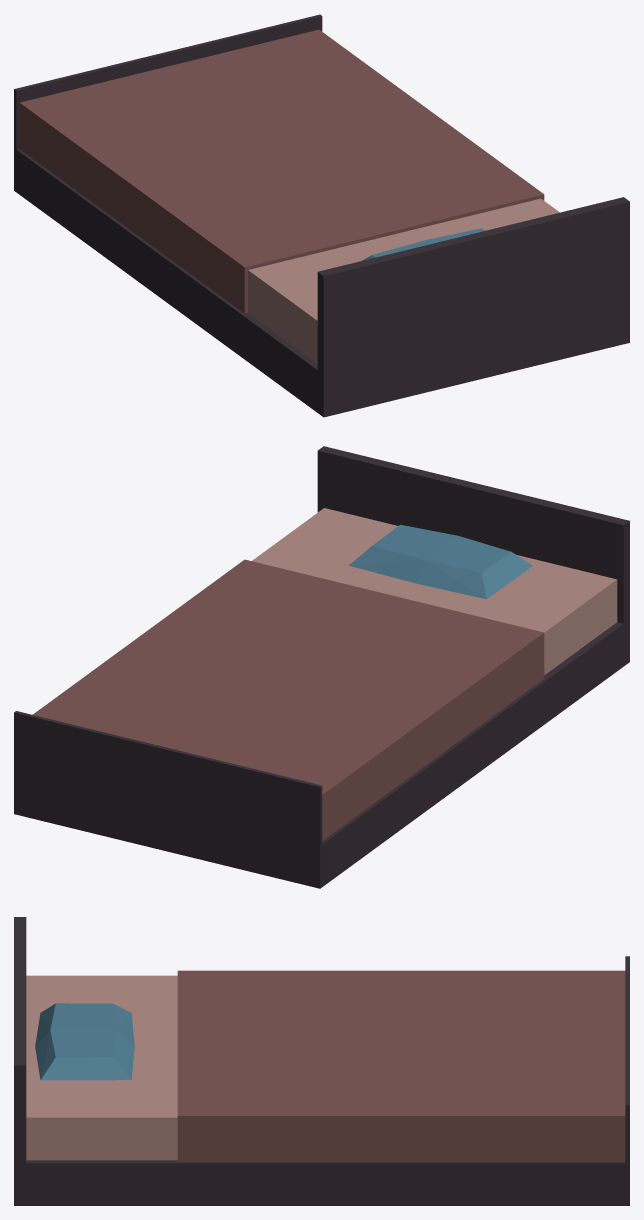
The model's file is bed.fbx.
The picture shows the model from 3 angles, top to bottom: view 1: azimuth 30°, elevation 25°; view 2: azimuth 150°, elevation 25°; view 3: azimuth 270°, elevation 25°; orthographic projection.
Parts seen in each view (by area): view 1: pCube1; view 2: pCube1; view 3: pCube1.
Boxes of the visible parts, x1,y1,x2,y2 form: pCube1: (14, 14, 629, 417); pCube1: (14, 446, 629, 888); pCube1: (14, 917, 629, 1205).
Size of the model in its own units: 4.14 by 1.82 by 7.25.
